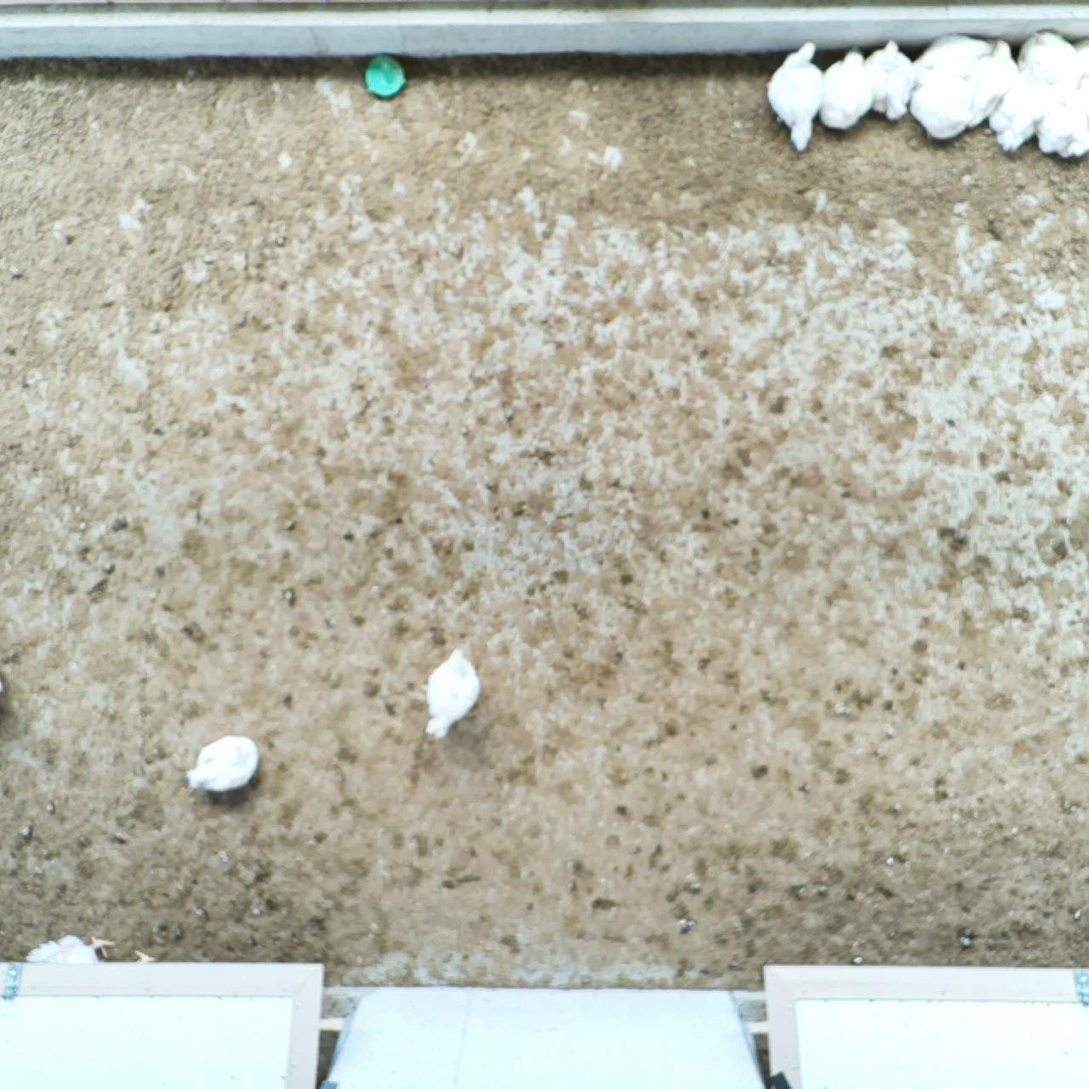chicken: (413, 643, 486, 745), (763, 39, 826, 154), (986, 61, 1053, 155), (182, 731, 263, 800), (908, 64, 974, 147), (964, 38, 1021, 130), (817, 44, 873, 131), (862, 37, 916, 121), (1036, 83, 1089, 167), (1015, 27, 1079, 85), (24, 929, 118, 964), (910, 32, 995, 68)
